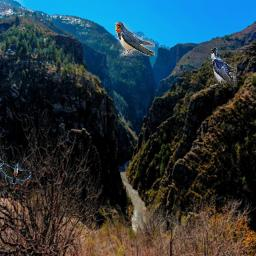Swallow: (115, 22, 155, 56), (210, 47, 237, 87)
Woodpecker: (0, 163, 31, 184)
